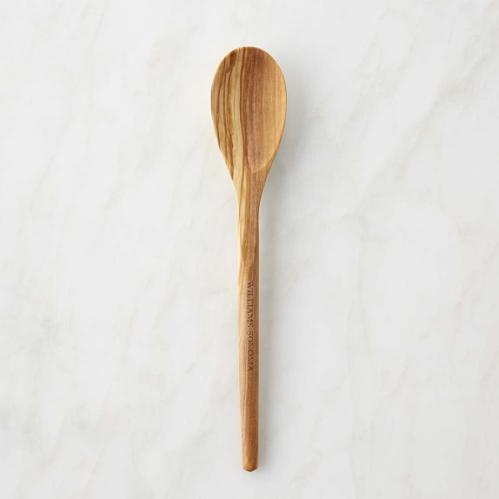Spoon: (210, 46, 287, 472)
